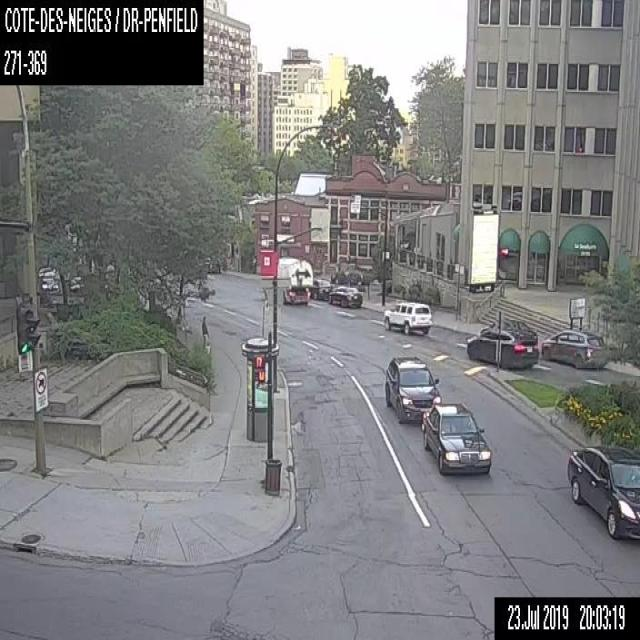pedestrian: (201, 312, 210, 352)
vehicle: (566, 440, 639, 543), (421, 402, 492, 474), (384, 354, 441, 422), (464, 318, 538, 367), (541, 328, 607, 368), (276, 255, 312, 304), (383, 300, 431, 333), (327, 284, 362, 306), (330, 269, 362, 284), (310, 278, 330, 298), (206, 257, 220, 274)
